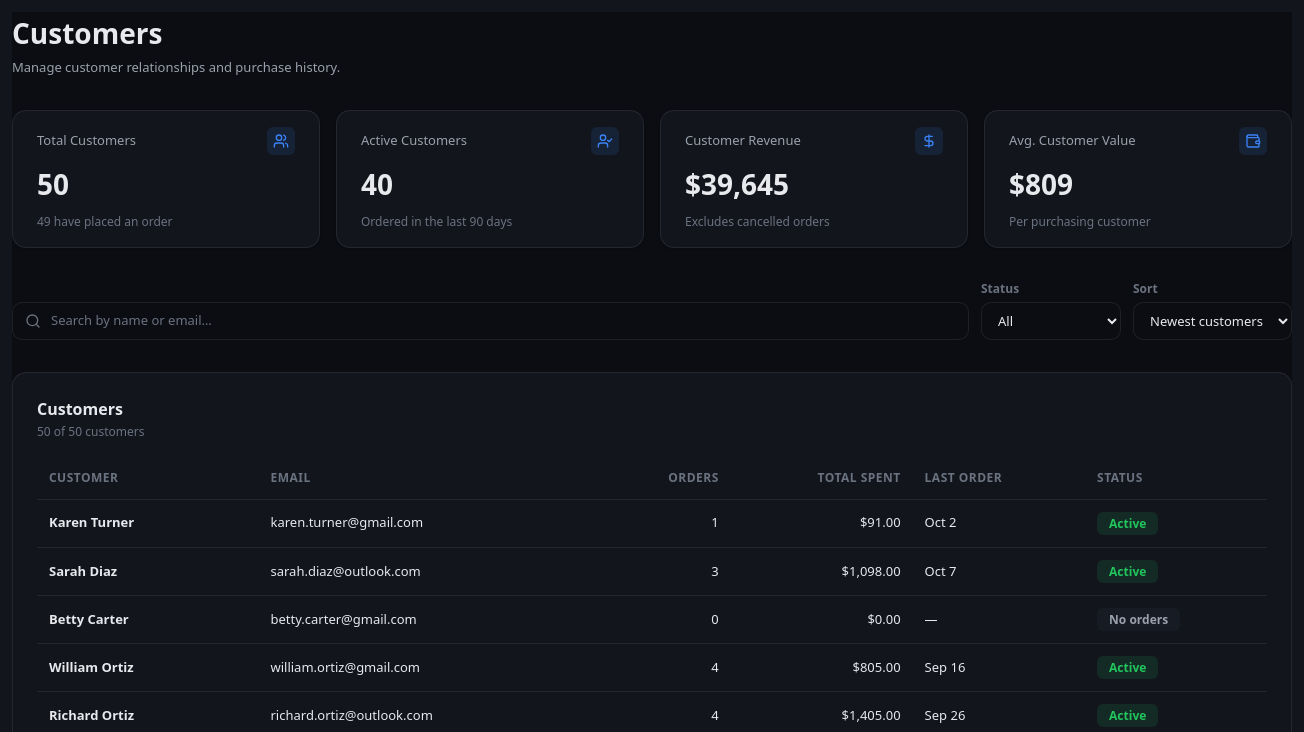
Test: Customers page › filters by the Inactive status
This screenshot has width=1304, height=732.
Select "Inactive" in the dropdown labelled "Status" at (1051, 320), box [981,302,1121,340]
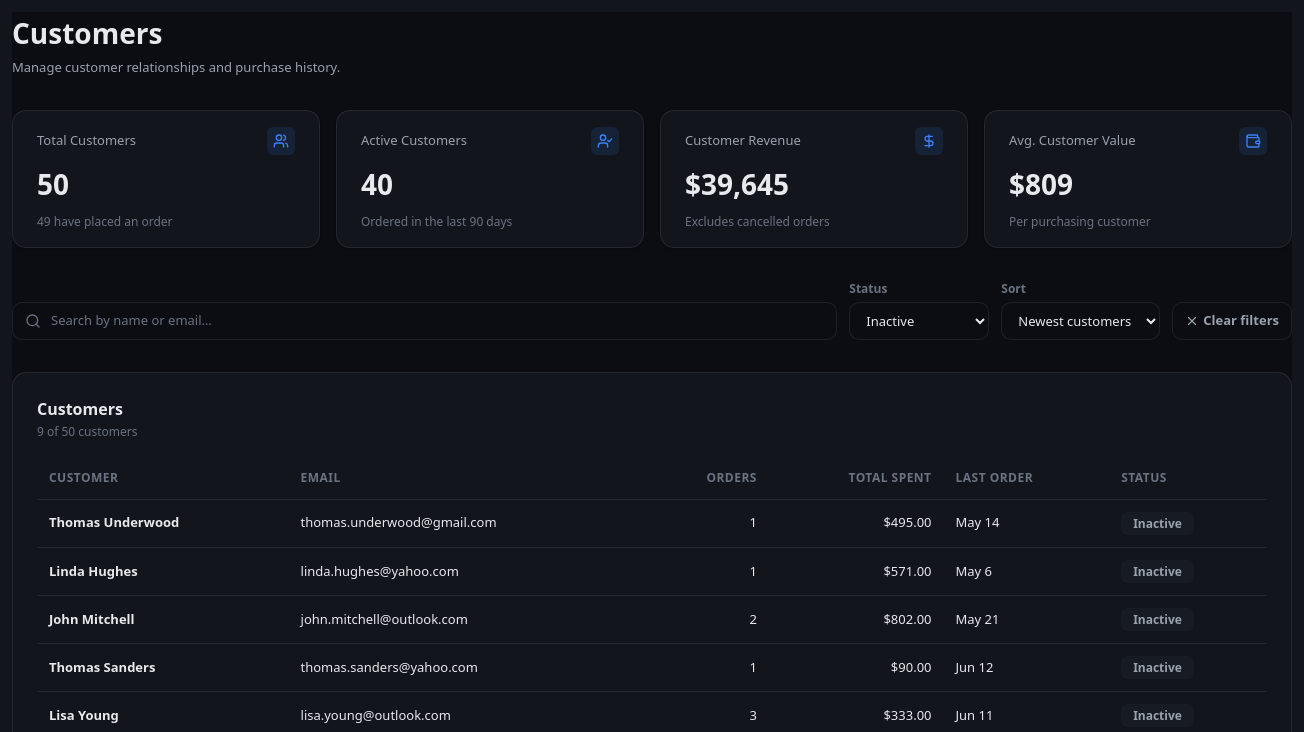
Now the number of buttons named "View customer " is 9
